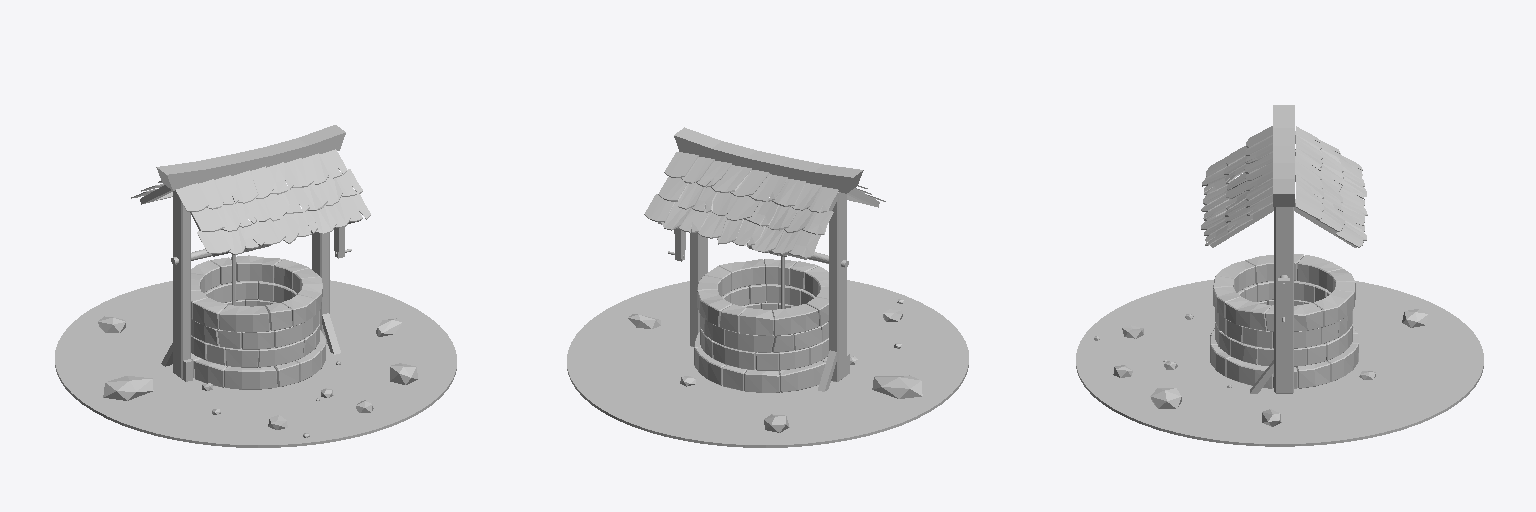
Rendered from Well_low_polyOBJ.obj.
The picture shows the model from 3 angles: view 1: azimuth 30°, elevation 25°; view 2: azimuth 150°, elevation 25°; view 3: azimuth 270°, elevation 25°; orthographic projection.
Visible parts, largest first — view 1: Plane.026_Cylinder.005, Brick_Cube, Crep.012_Plane.038, Cube.006, Cube.005, Cube.004, Icosphere.001; view 2: Plane.026_Cylinder.005, Brick_Cube, Crep.001_Plane.053, Cube.006, Cube.005, Cube.004, Icosphere.001; view 3: Plane.026_Cylinder.005, Brick_Cube, Crep.001_Plane.053, Crep.012_Plane.038, Cube.004, Cube.006, Icosphere.002.
Boxes of the visible parts, x1,y1,x2,y2 form: Plane.026_Cylinder.005: [55, 280, 456, 447]; Brick_Cube: [191, 255, 325, 389]; Crep.012_Plane.038: [176, 149, 370, 254]; Cube.006: [156, 125, 345, 190]; Cube.005: [173, 190, 190, 379]; Cube.004: [312, 232, 329, 343]; Icosphere.001: [103, 376, 153, 400]; Plane.026_Cylinder.005: [567, 280, 968, 447]; Brick_Cube: [694, 259, 828, 392]; Crep.001_Plane.053: [644, 152, 838, 258]; Cube.006: [674, 127, 863, 193]; Cube.005: [829, 192, 846, 381]; Cube.004: [690, 205, 707, 346]; Icosphere.001: [872, 375, 922, 398]; Plane.026_Cylinder.005: [1076, 280, 1483, 446]; Brick_Cube: [1210, 254, 1358, 388]; Crep.001_Plane.053: [1295, 126, 1367, 247]; Crep.012_Plane.038: [1201, 126, 1272, 245]; Cube.004: [1274, 207, 1293, 393]; Cube.006: [1273, 105, 1294, 206]; Icosphere.002: [1150, 388, 1181, 408].
Size of the model in its own units: 37.67 by 22.01 by 38.41.